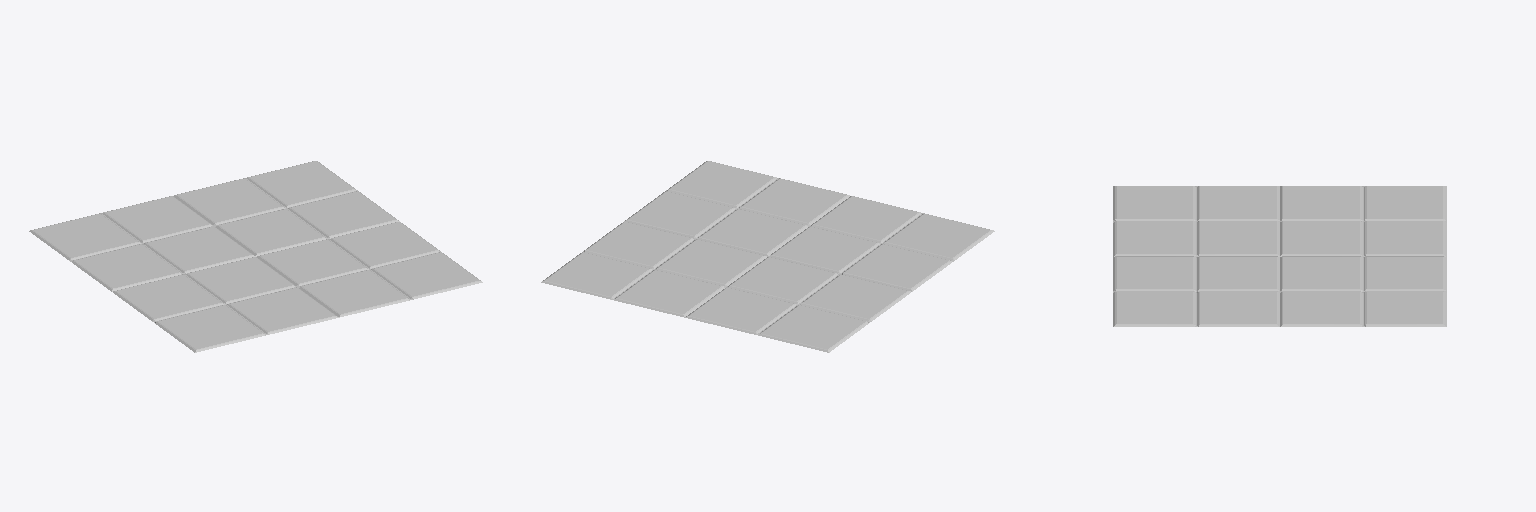
File: Pavimento4x4.obj
3 renders of one model, left to right at view 1: azimuth 30°, elevation 25°; view 2: azimuth 150°, elevation 25°; view 3: azimuth 270°, elevation 25°, orthographic.
Visible parts, largest first — view 1: Pavimento4x4; view 2: Pavimento4x4; view 3: Pavimento4x4.
Boxes of the visible parts, box(x1,y1,x2,y2) form: Pavimento4x4: box(29, 161, 482, 352); Pavimento4x4: box(541, 161, 994, 352); Pavimento4x4: box(1113, 186, 1446, 326).
Size of the model in its own units: 0.9999 by 0.005 by 1.